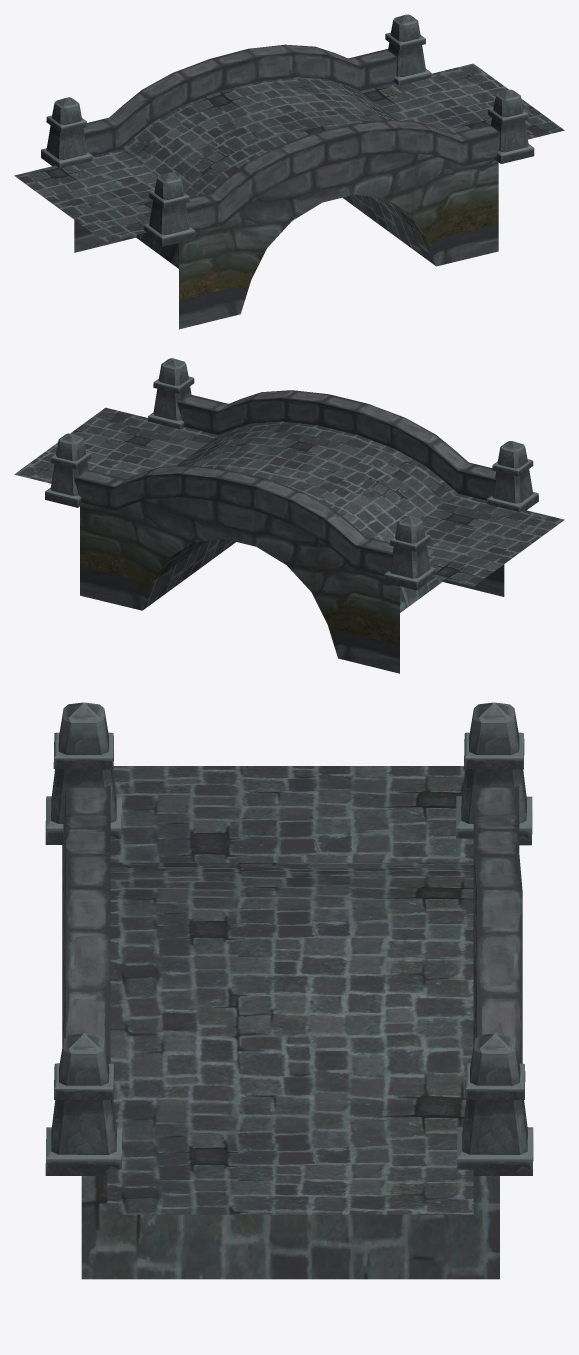
Rendered from object_bridges.fbx.
The picture shows the model from 3 angles, top to bottom: view 1: azimuth 30°, elevation 25°; view 2: azimuth 150°, elevation 25°; view 3: azimuth 270°, elevation 25°; orthographic projection. The views are drawn at different scales.
Visible parts, largest first — view 1: obj3; view 2: obj3; view 3: obj3.
Boxes of the visible parts, x1=… form: obj3: x1=14, y1=14, x2=564, y2=329; obj3: x1=14, y1=358, x2=564, y2=673; obj3: x1=45, y1=702, x2=533, y2=1279.
Size of the model in its own units: 16.71 by 5.51 by 7.68.
